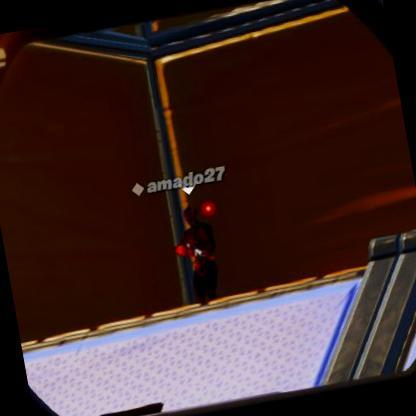person: (165, 207, 231, 305)
